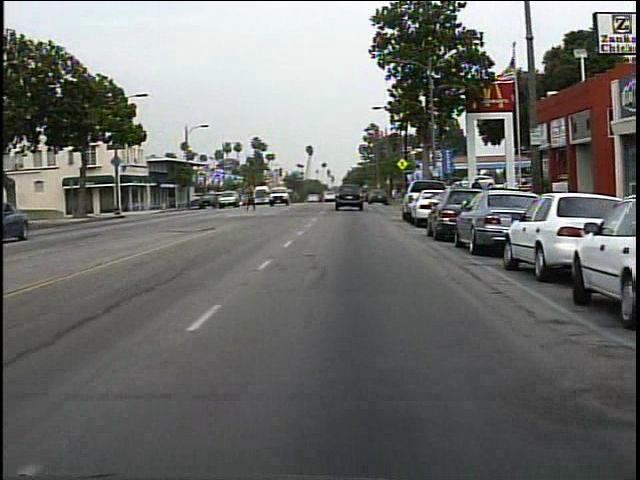person: (467, 175, 487, 217), (245, 182, 263, 213)
